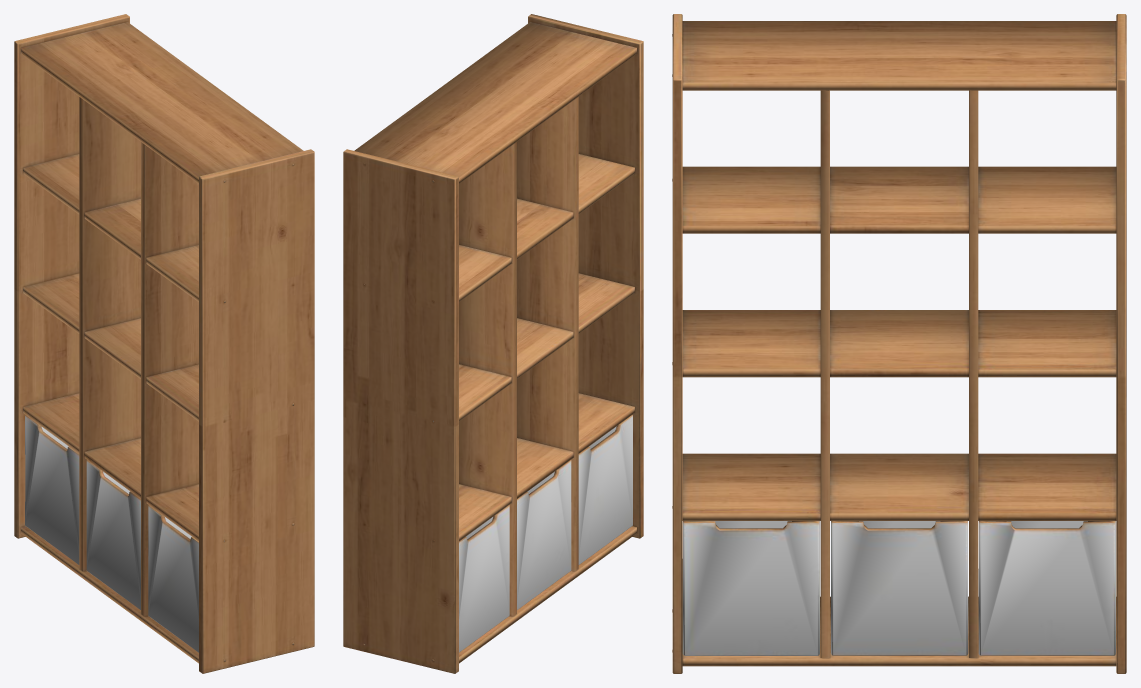
The model's file is wooden_display_shelves_01.glb.
3 views of the same model, side by side, from view 1: azimuth 30°, elevation 25°; view 2: azimuth 150°, elevation 25°; view 3: azimuth 270°, elevation 25° (orthographic). The views are drawn at different scales.
Visible parts, largest first — view 1: wooden_display_shelves_01; view 2: wooden_display_shelves_01; view 3: wooden_display_shelves_01.
Boxes of the visible parts, bbox=[...] form: wooden_display_shelves_01: bbox=[14, 14, 314, 673]; wooden_display_shelves_01: bbox=[343, 14, 643, 673]; wooden_display_shelves_01: bbox=[672, 14, 1126, 673].
Bounding box in the file's own units: 0.3714 × 1.56 × 1.08.
Materials: 1 (1 with a texture image).
